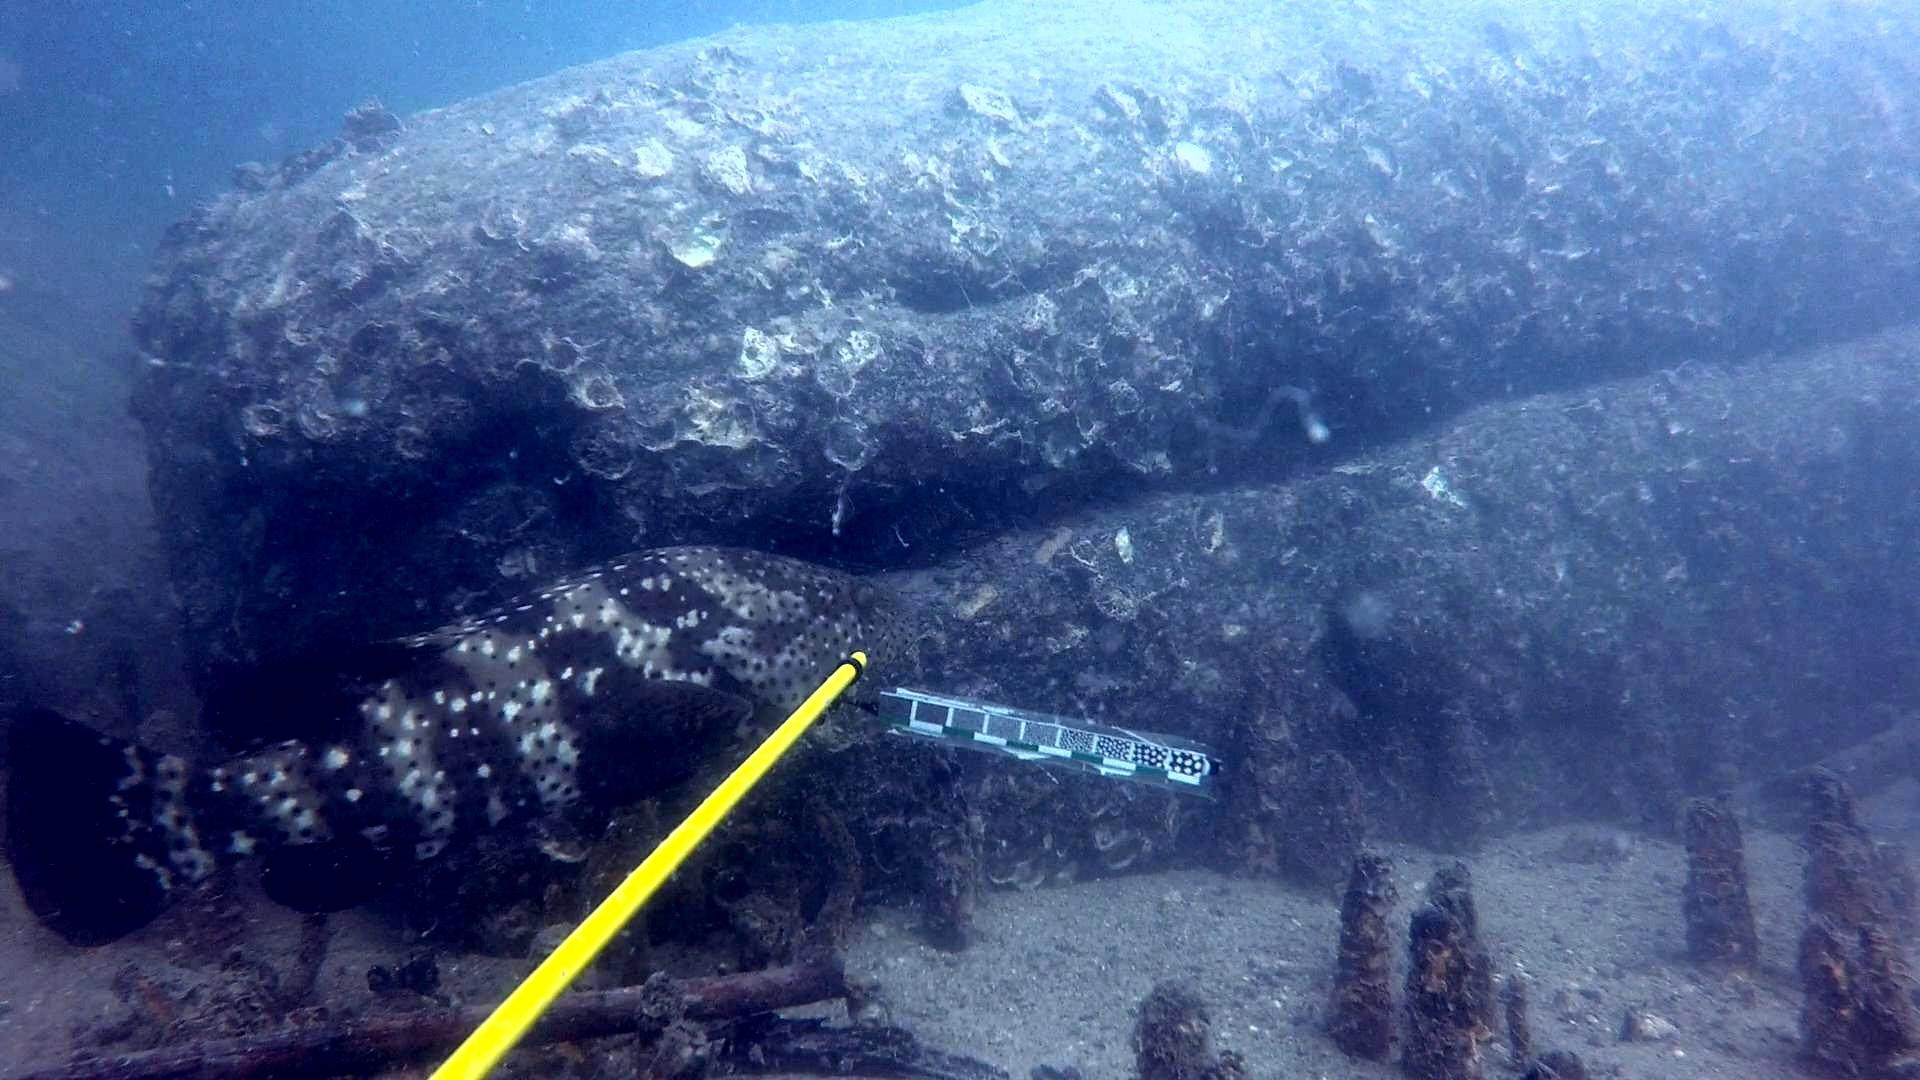epinephelus: (0, 540, 933, 957)
